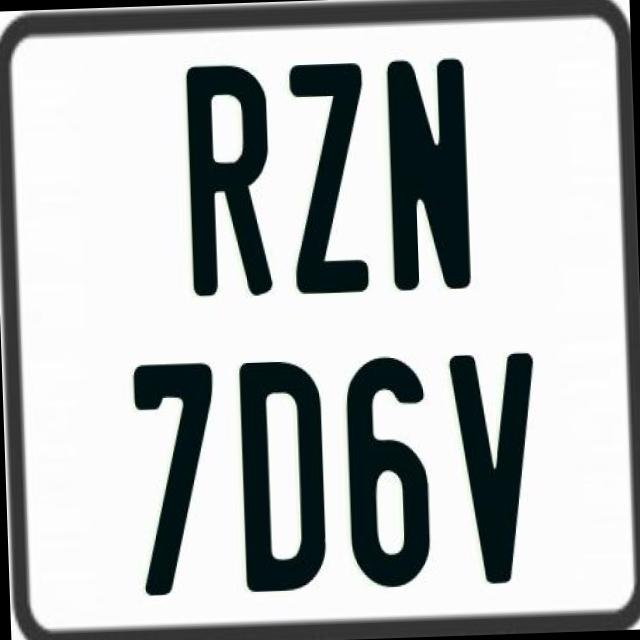6: (342, 354, 438, 596)
7: (130, 360, 224, 596)
D: (234, 357, 324, 593)
N: (383, 57, 471, 295)
R: (186, 62, 276, 302)
V: (448, 351, 540, 584)
Z: (288, 60, 372, 292)
